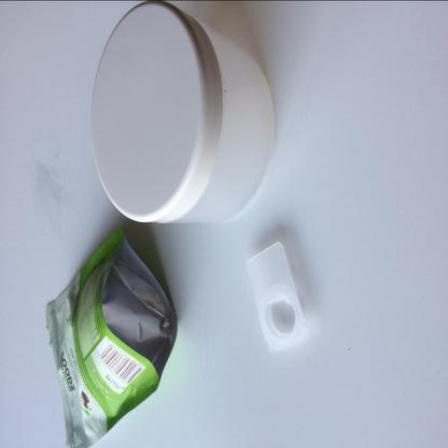Plastic bag - wrapper: (46, 228, 178, 448)
Plastic container: (92, 2, 276, 225), (247, 243, 309, 356)
